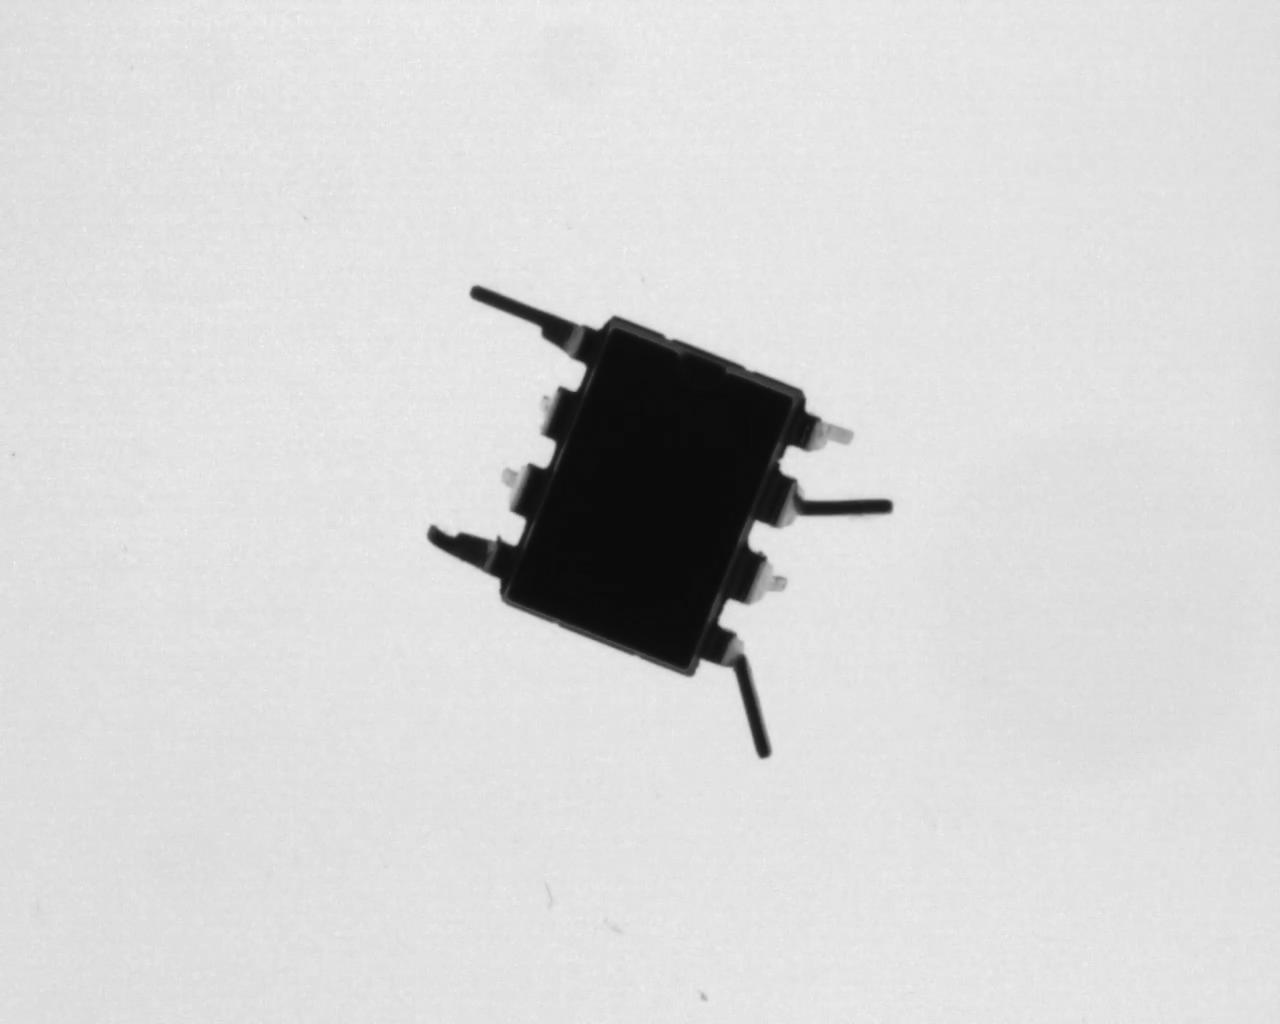Leg: (470, 284, 601, 369), (701, 621, 772, 760), (759, 471, 894, 528), (425, 525, 525, 577), (725, 541, 788, 605), (785, 401, 859, 451), (537, 376, 579, 444), (499, 460, 543, 522)
